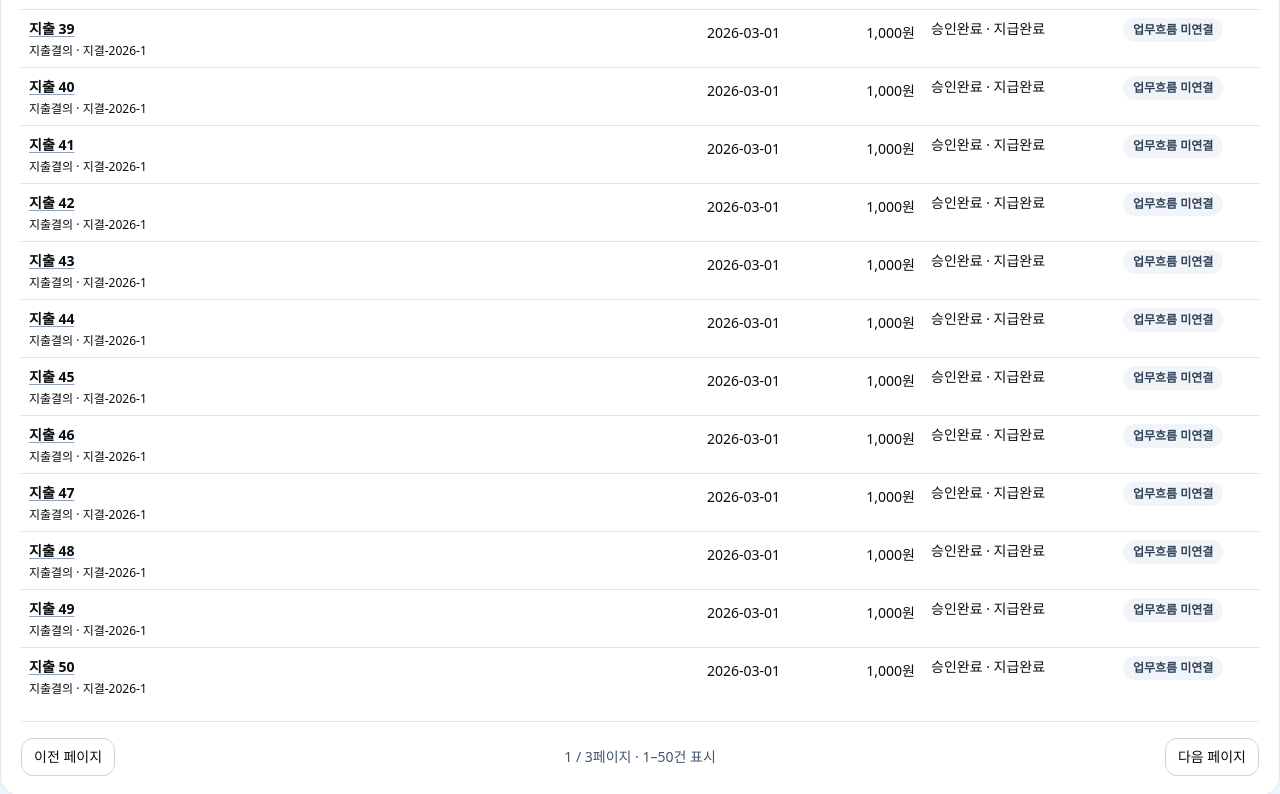
Test: common original expense workspace › renders large workspaces in 50-row pages without a server navigation
(page scrolled)
Expected: the text "1 / 3페이지 · 1–50건 표시" is shown, [564,747,716,767]
Expected: the button "지출 51" is not shown
Click the button "다음 페이지" at {"x": 1212, "y": 757}, box [1165,738,1259,776]
(page scrolled)
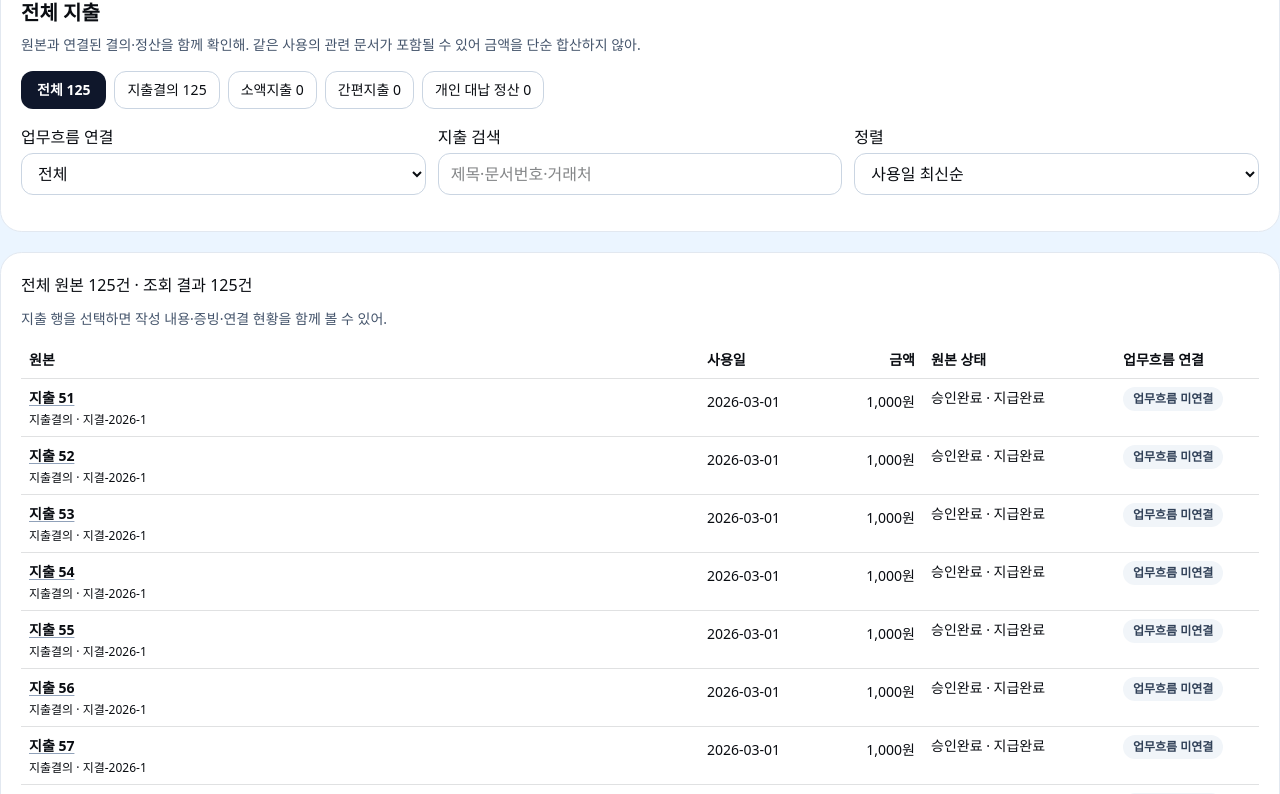
Result: the button "지출 51" is shown at [29,387,691,408]
